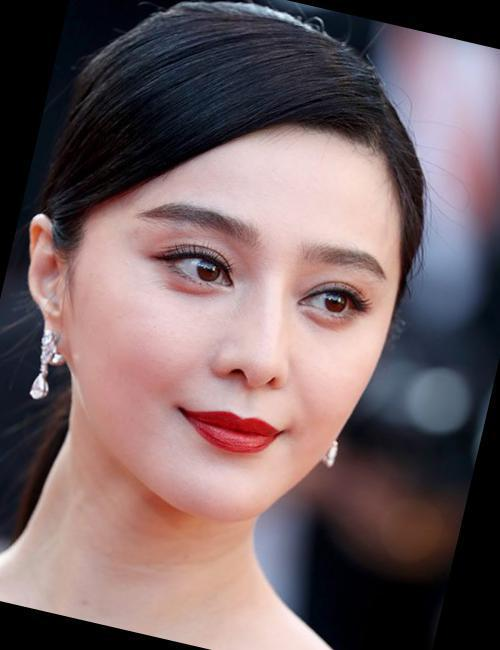Sober: (119, 133, 387, 505)
